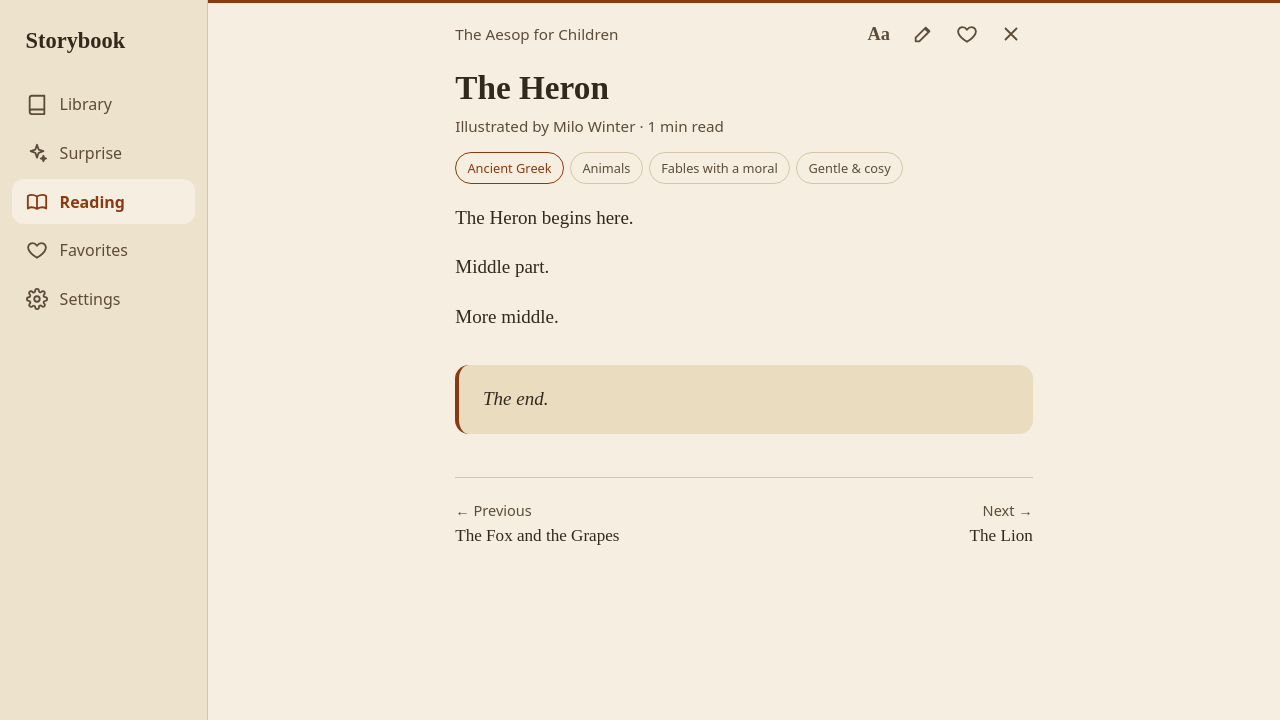
Test: ReaderPage › open story (Reading tab) › Close book clears it and goes to the shelf
Expected: the text "The Heron begins here." is shown, [455, 207, 634, 228]
Click the button named "Close book".
click(1011, 34)  # box [989, 12, 1033, 56]
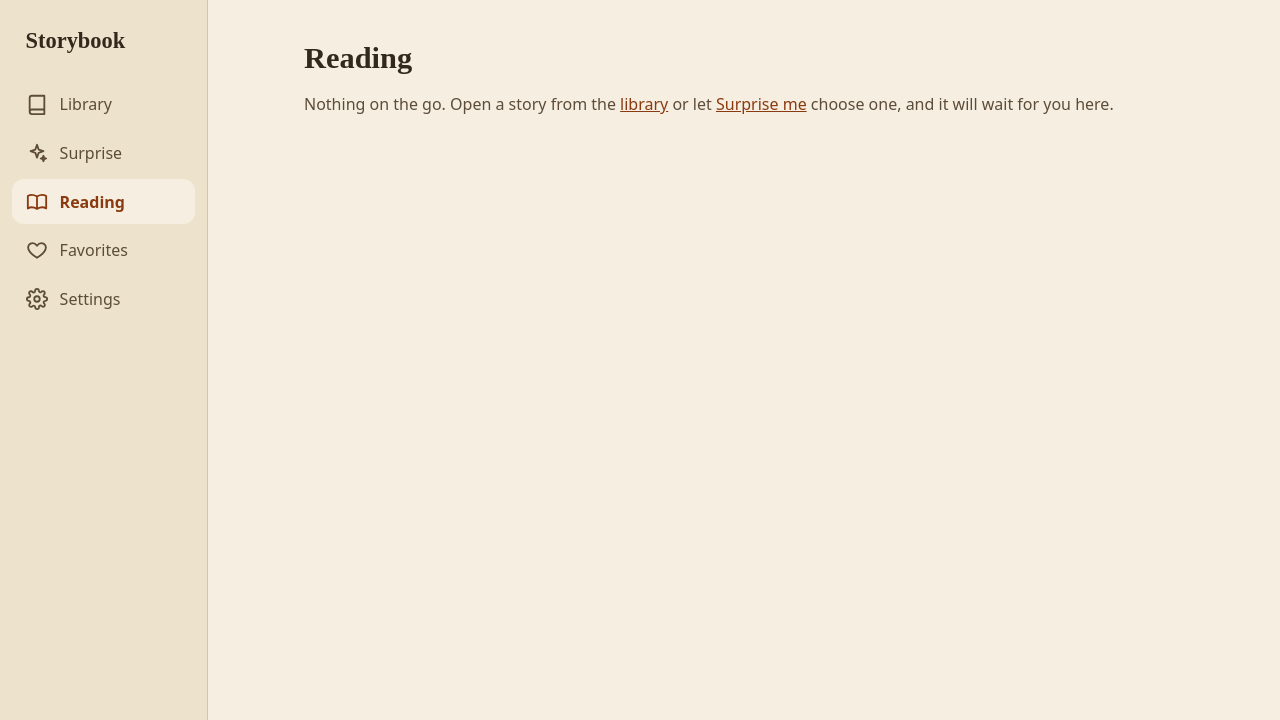
Expected: the heading "Reading" is shown, [304, 41, 412, 75]
